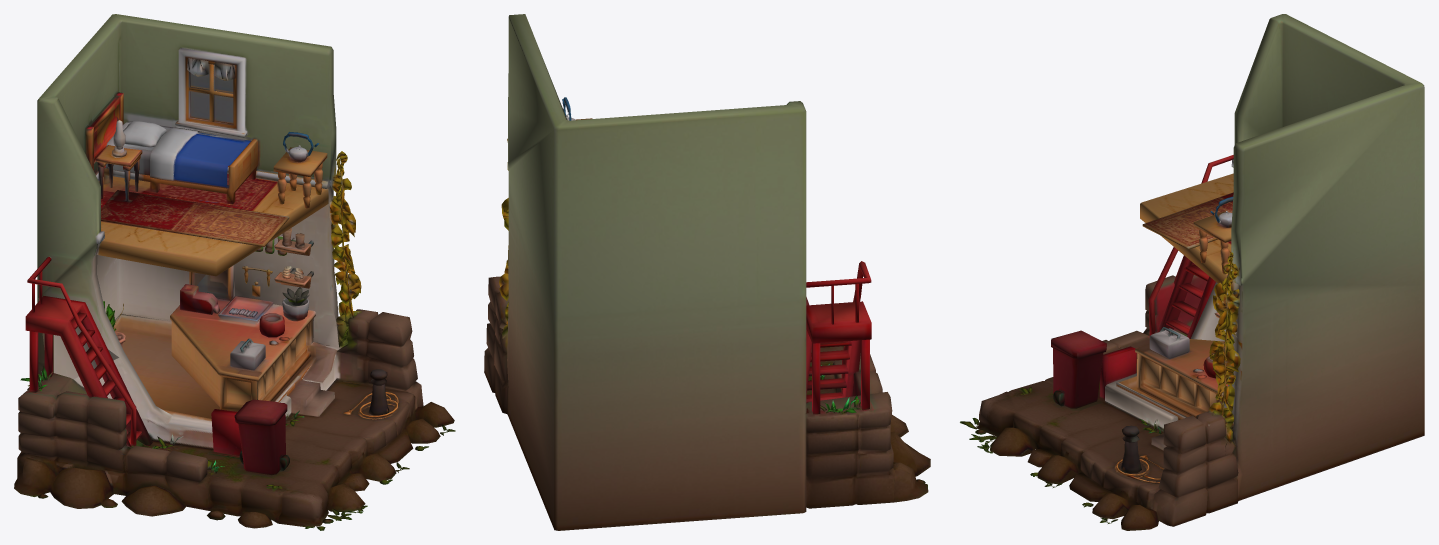
File: tier1-lv5.glb
The picture shows the model from 3 angles, left to right: view 1: azimuth 30°, elevation 25°; view 2: azimuth 150°, elevation 25°; view 3: azimuth 270°, elevation 25°; orthographic projection. The views are drawn at different scales.
Parts seen in each view (by area): view 1: tripo_node_2926ca40-346c-4e58-8564-f8c66e728b14; view 2: tripo_node_2926ca40-346c-4e58-8564-f8c66e728b14; view 3: tripo_node_2926ca40-346c-4e58-8564-f8c66e728b14.
Part boxes in pixels (x1,y1,x2,y2): tripo_node_2926ca40-346c-4e58-8564-f8c66e728b14: (14, 14, 455, 530); tripo_node_2926ca40-346c-4e58-8564-f8c66e728b14: (484, 14, 930, 530); tripo_node_2926ca40-346c-4e58-8564-f8c66e728b14: (960, 14, 1424, 530).
Bounding box in the file's own units: 1.2 × 0.998 × 1.2.
Materials: 1 (1 with a texture image).
